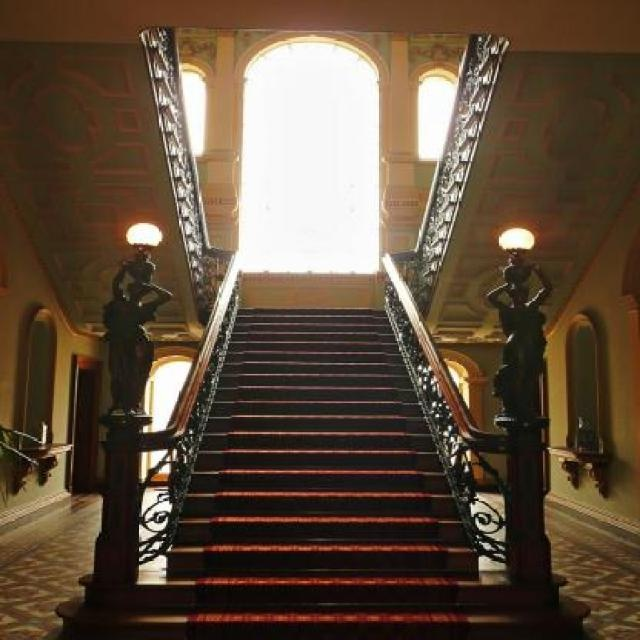stair: (52, 306, 594, 635)
